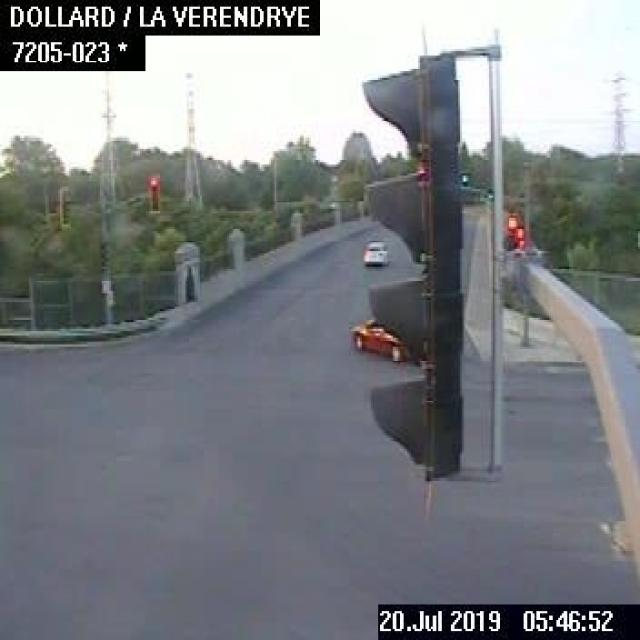vehicle: (349, 316, 410, 360), (362, 238, 387, 262)
